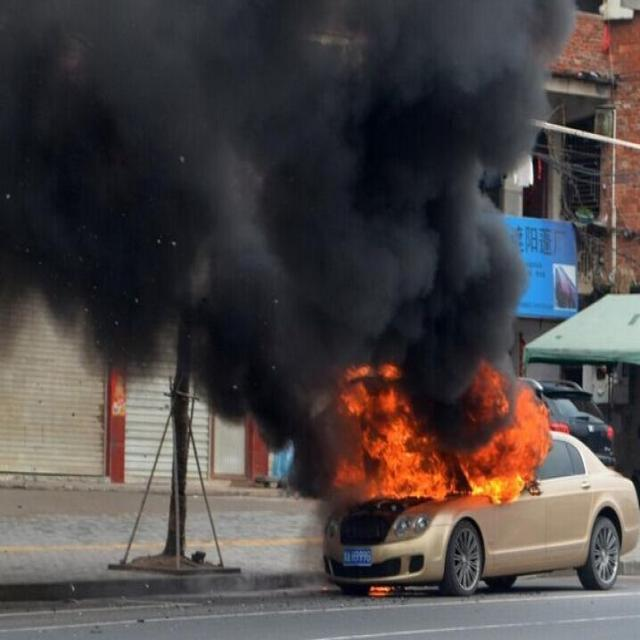Fire: (319, 353, 553, 510)
Smoke: (0, 0, 316, 502), (318, 0, 576, 355)
